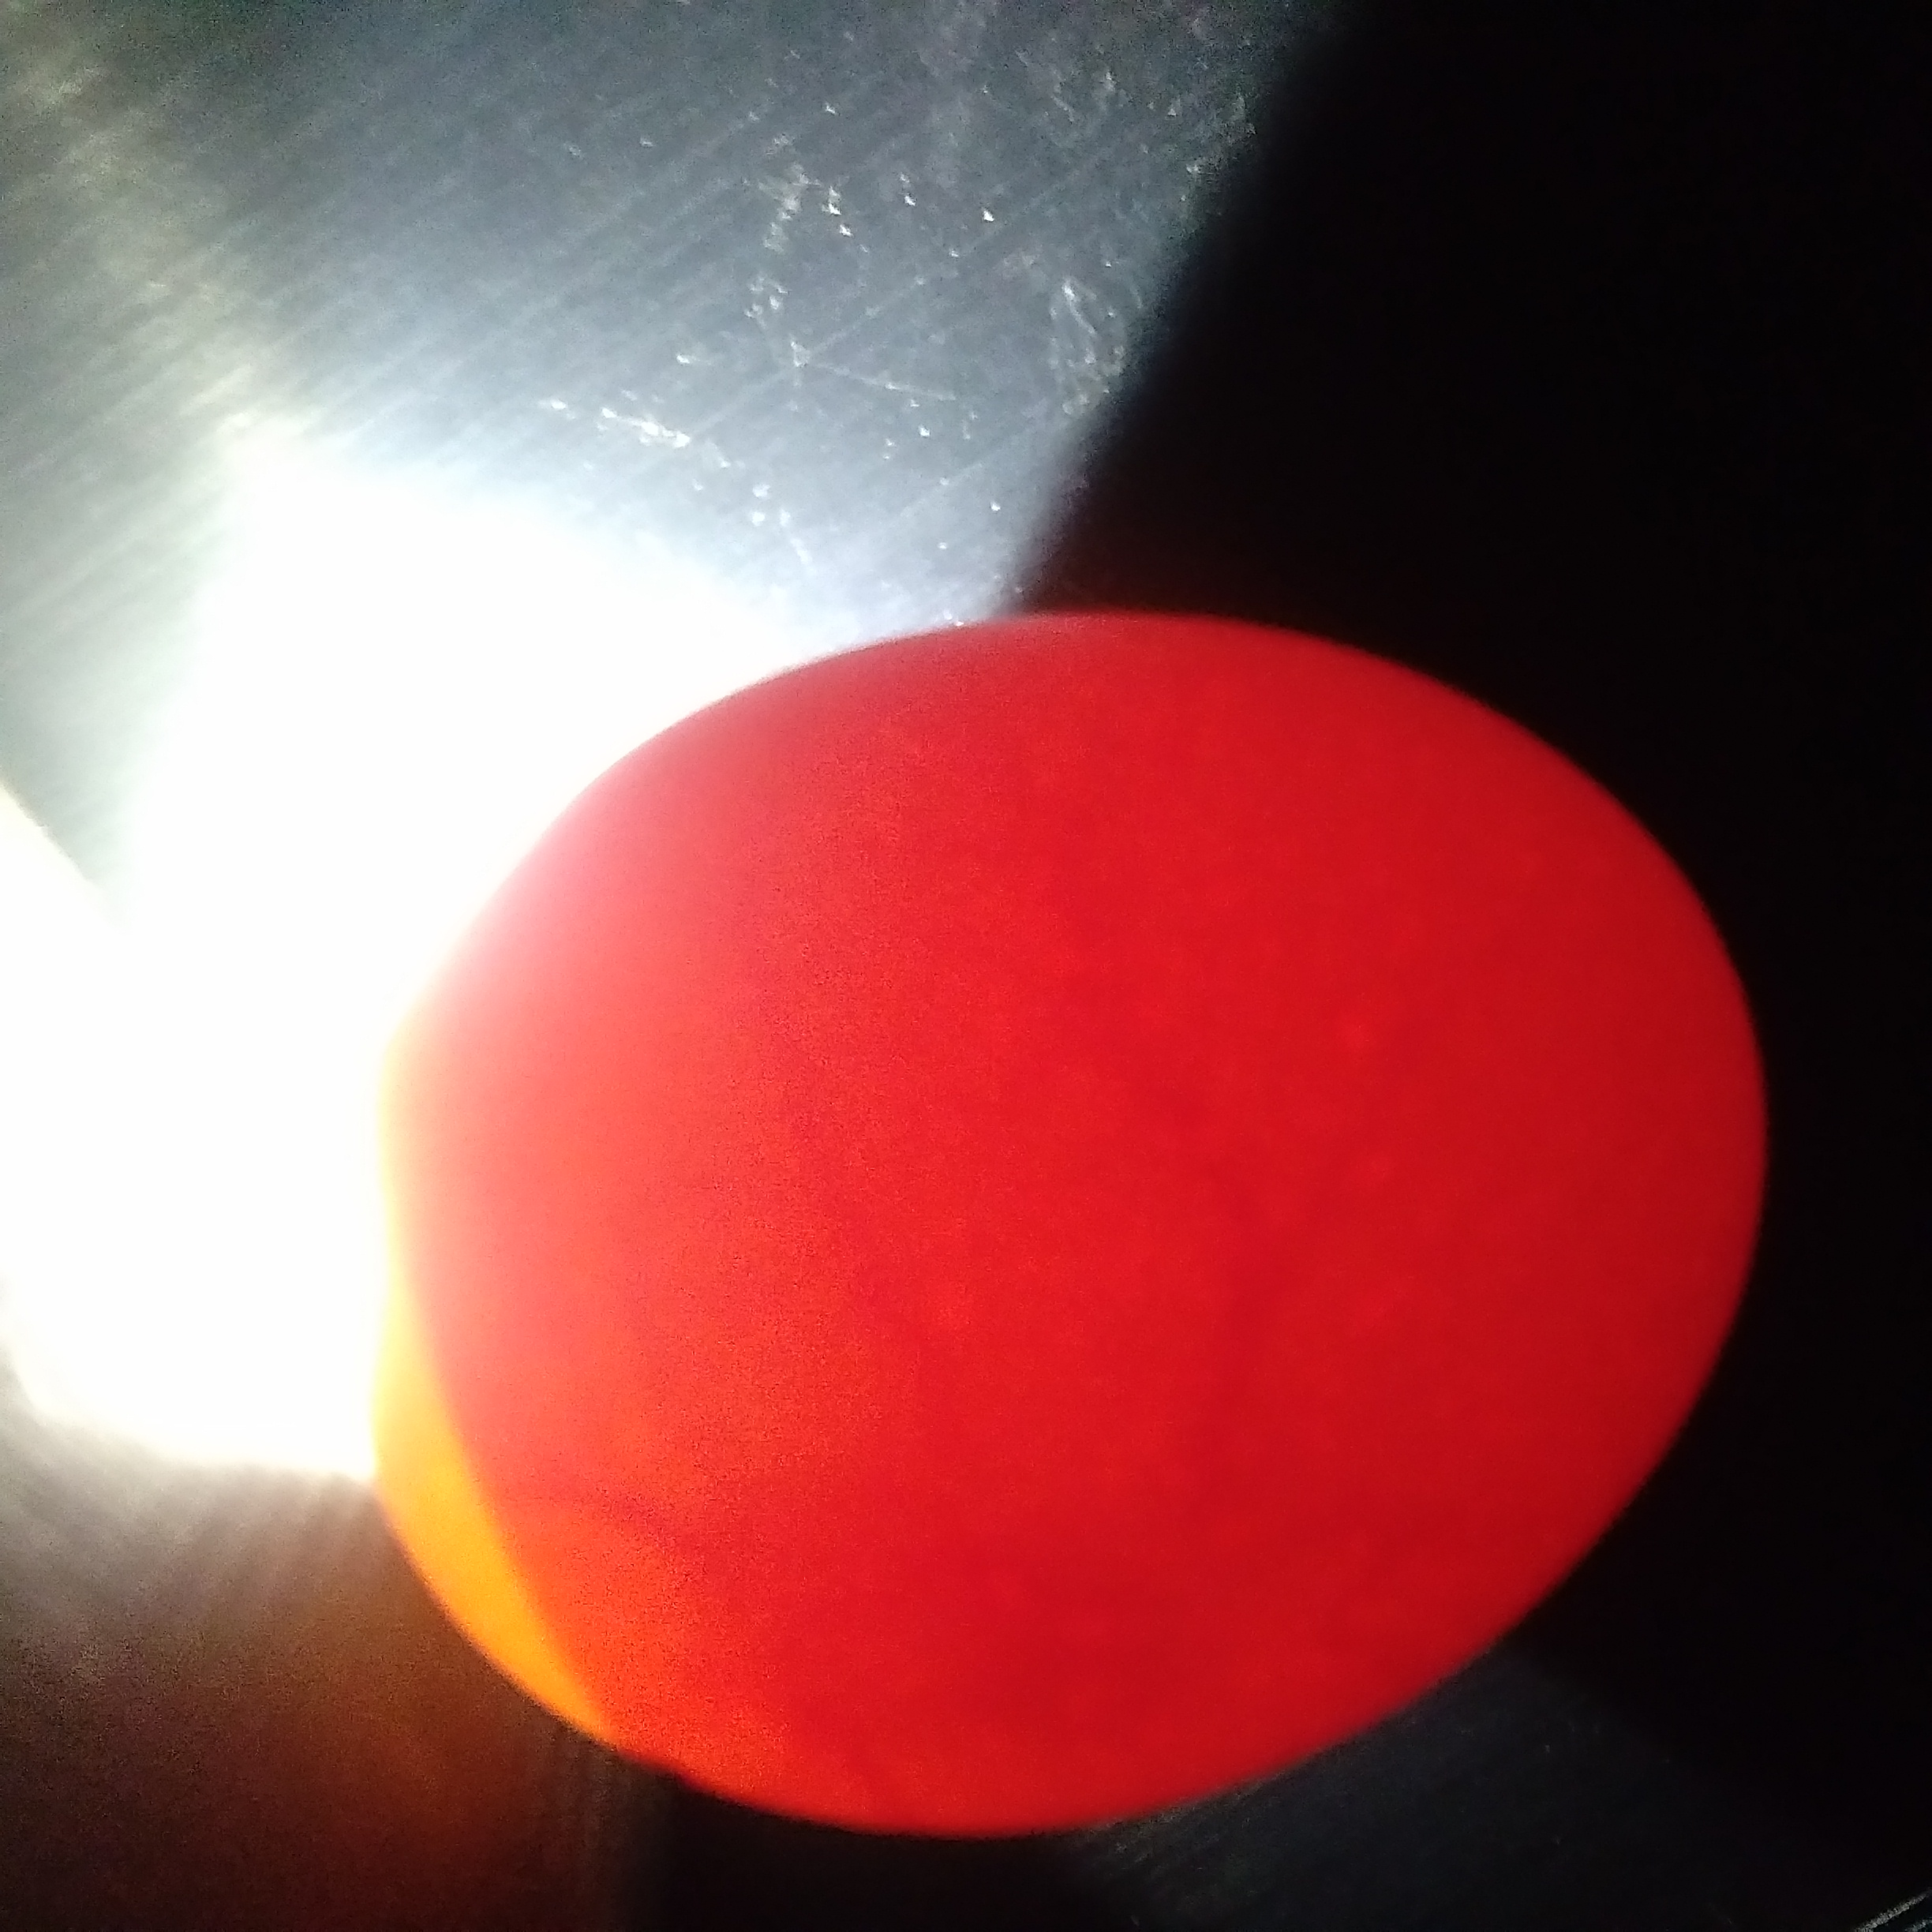bloodcell: (775, 1085, 1265, 1403)
embryo: (819, 1497, 1177, 1706)
